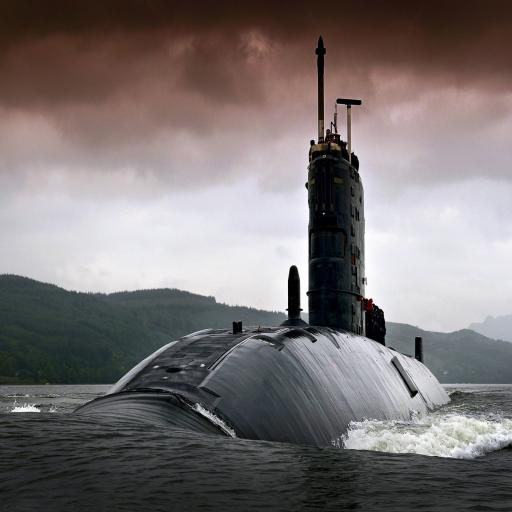submarine: (68, 26, 459, 465)
